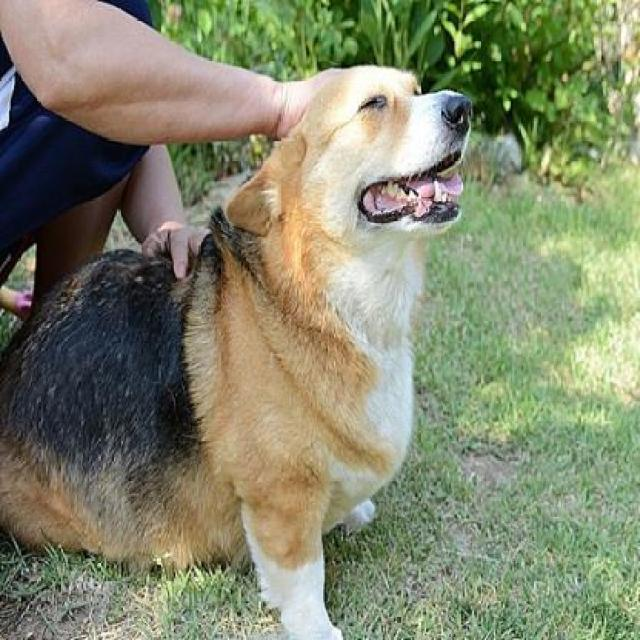Dog: (3, 64, 477, 638)
